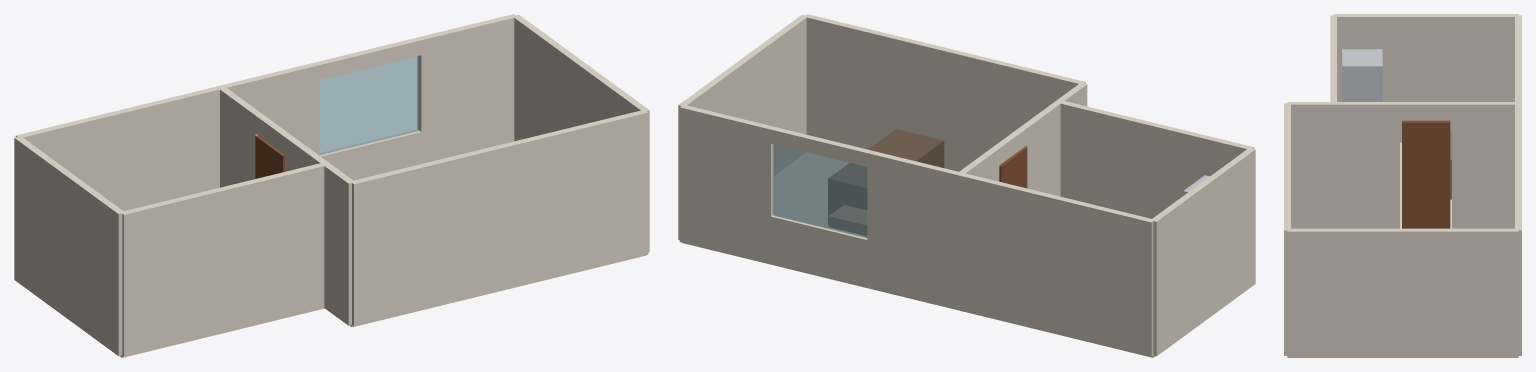
Rendered from sample-apartment.glb.
3 views of the same model, side by side, from view 1: azimuth 30°, elevation 25°; view 2: azimuth 150°, elevation 25°; view 3: azimuth 270°, elevation 25° (orthographic). The views are drawn at different scales.
Visible parts, largest first — view 1: wall-0023-0, wall-0013-0, wall-0012-0, wall-0011-0, wall-0021-1, wall-0022-0, window-0021-0, wall-0021-0, wall-0024-0, wall-0014-0, wall-0021-2, wall-0021-3 (+3 smaller); view 2: wall-0011-0, wall-0023-0, wall-0012-0, wall-0013-0, wall-0021-1, wall-0021-0, wall-0022-0, window-0021-0, wall-0021-2, floor-0026, sofa-0027, wall-0014-1 (+5 smaller); view 3: wall-0022-0, wall-0012-0, wall-0014-1, wall-0014-0, wall-0024-0, door-0014-0, refrigerator-0017, wall-0023-0, wall-0014-2, wall-0021-1, wall-0011-0, wall-0013-0 (+4 smaller).
Part boxes in pixels (left/top/right/bottom): wall-0023-0: left=350, top=110, right=648, bottom=326; wall-0013-0: left=121, top=163, right=326, bottom=356; wall-0012-0: left=14, top=136, right=124, bottom=356; wall-0011-0: left=15, top=86, right=222, bottom=210; wall-0021-1: left=417, top=14, right=516, bottom=163; wall-0022-0: left=513, top=14, right=649, bottom=252; window-0021-0: left=319, top=56, right=418, bottom=155; wall-0021-0: left=219, top=62, right=319, bottom=155; wall-0024-0: left=323, top=163, right=354, bottom=325; wall-0014-0: left=220, top=88, right=261, bottom=187; wall-0021-2: left=319, top=129, right=421, bottom=180; wall-0021-3: left=316, top=37, right=421, bottom=79; wall-0011-0: left=958, top=172, right=1154, bottom=356; wall-0023-0: left=804, top=14, right=1085, bottom=171; wall-0012-0: left=1152, top=148, right=1255, bottom=356; wall-0013-0: left=1060, top=101, right=1254, bottom=218; wall-0021-1: left=679, top=104, right=774, bottom=263; wall-0021-0: left=867, top=150, right=961, bottom=309; wall-0022-0: left=678, top=14, right=808, bottom=239; window-0021-0: left=773, top=144, right=867, bottom=237; wall-0021-2: left=771, top=214, right=867, bottom=287; floor-0026: left=682, top=152, right=960, bottom=310; sofa-0027: left=828, top=129, right=944, bottom=224; wall-0014-1: left=1021, top=100, right=1061, bottom=196; wall-0022-0: left=1287, top=228, right=1518, bottom=357; wall-0012-0: left=1333, top=14, right=1518, bottom=142; wall-0014-1: left=1333, top=102, right=1399, bottom=228; wall-0014-0: left=1452, top=102, right=1518, bottom=228; wall-0024-0: left=1287, top=102, right=1333, bottom=228; door-0014-0: left=1402, top=120, right=1450, bottom=228; refrigerator-0017: left=1342, top=49, right=1382, bottom=101; wall-0023-0: left=1284, top=103, right=1290, bottom=355; wall-0014-2: left=1400, top=102, right=1451, bottom=120; wall-0021-1: left=1515, top=188, right=1521, bottom=355; wall-0011-0: left=1515, top=15, right=1521, bottom=103; wall-0013-0: left=1330, top=15, right=1336, bottom=101.
Size of the model in its own units: 8.92 by 2.44 by 4.12.
